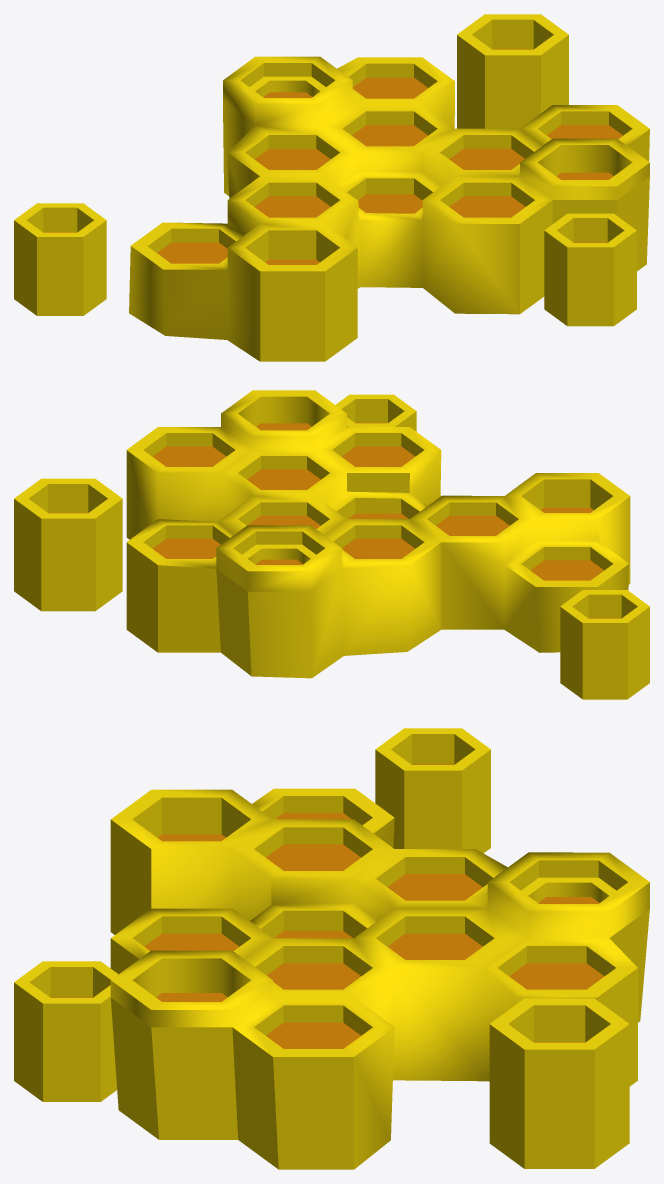
File: honeycomb1.fbx
3 renders of one model, top to bottom at view 1: azimuth 30°, elevation 25°; view 2: azimuth 150°, elevation 25°; view 3: azimuth 270°, elevation 25°, orthographic. The views are drawn at different scales.
Visible parts, largest first — view 1: honeycomb; view 2: honeycomb; view 3: honeycomb.
Boxes of the visible parts, x1=… form: honeycomb: x1=14, y1=14, x2=649, y2=361; honeycomb: x1=14, y1=390, x2=649, y2=699; honeycomb: x1=14, y1=728, x2=649, y2=1169.
Size of the model in its own units: 6.98 by 1.29 by 5.31.
